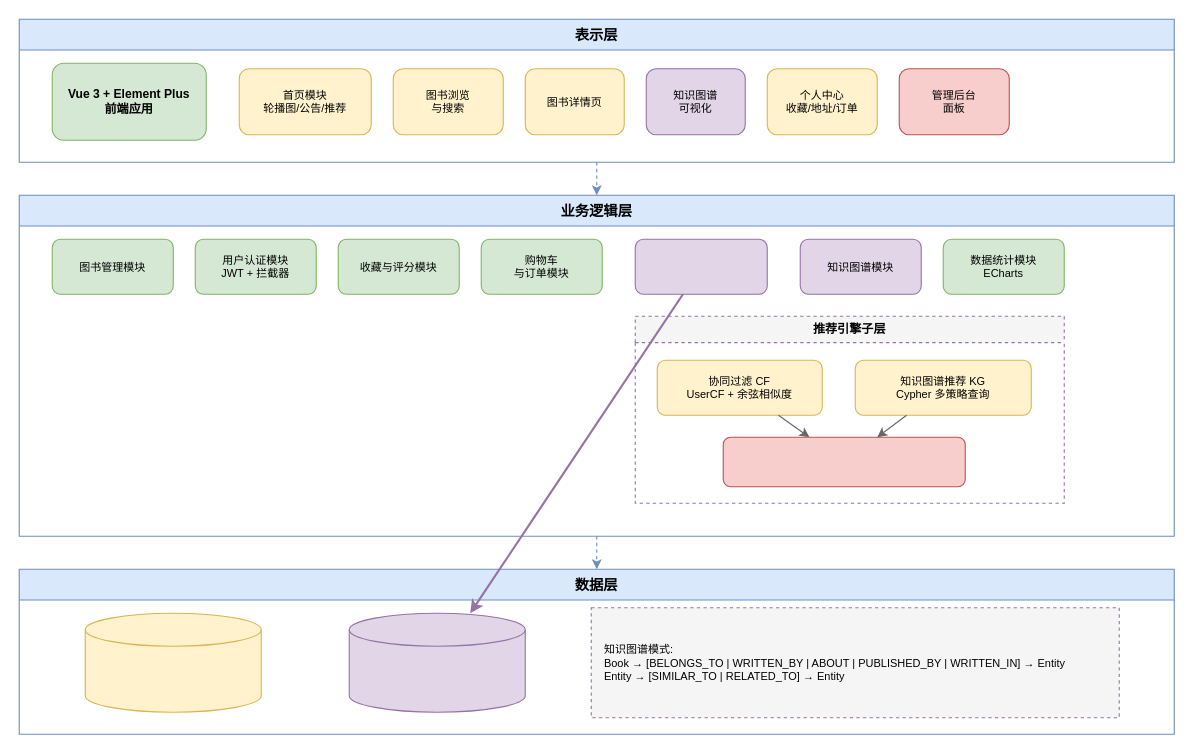
Image size: 1194x754. Some labels were removed from this diagram. The shapes that lost their labels are listed below. From the top down, each one's centre as x and y in pixels, then its label:
the point at 700,266: 混合推荐引擎
the point at 843,461: 混合排序融合层 α·CF + (1-α)·KG × 类别偏好
the point at 172,662: MySQL 8.0 用户/图书/订单/行为
the point at 436,662: Neo4j 图数据库 知识图谱节点&关系
